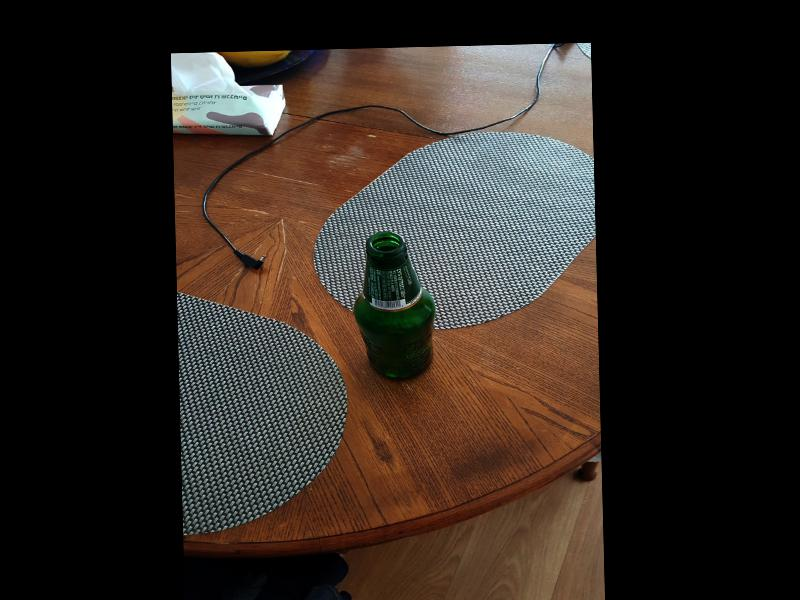Beer: (354, 229, 436, 381)
